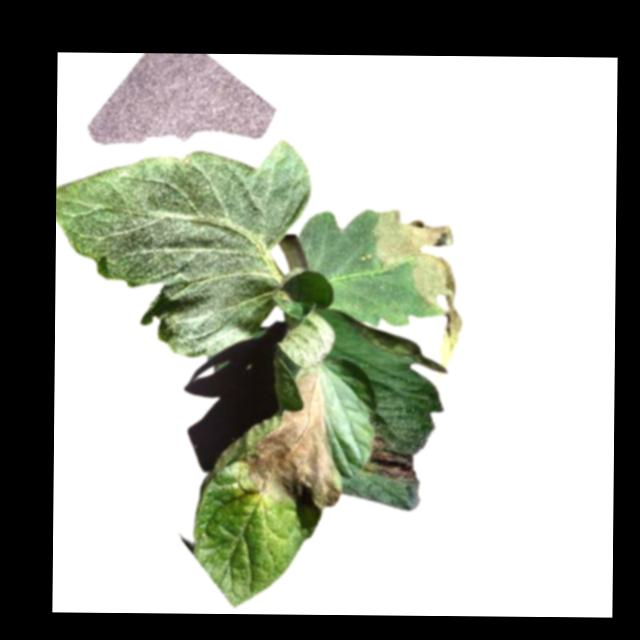Late_blight: (244, 371, 341, 509), (370, 209, 463, 342), (360, 435, 419, 484)
